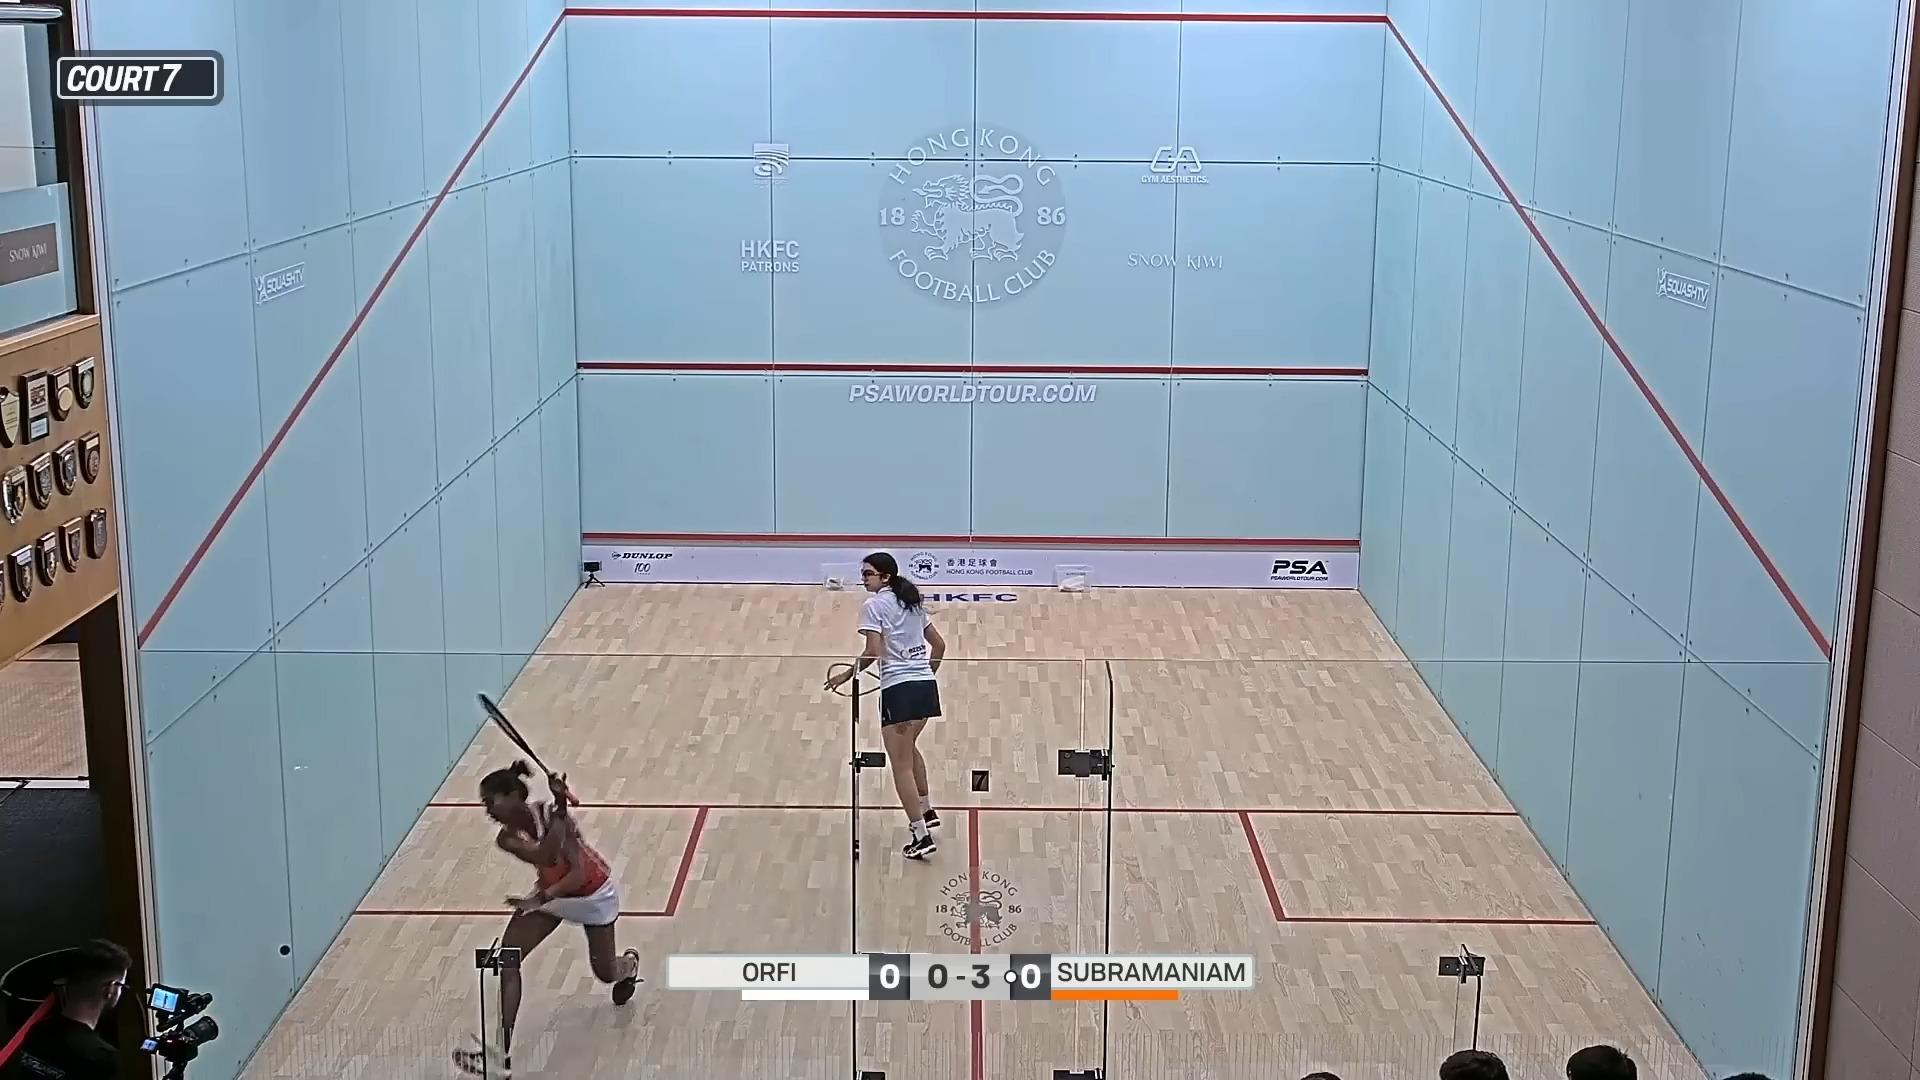Squash-Ball: (273, 932, 298, 968)
